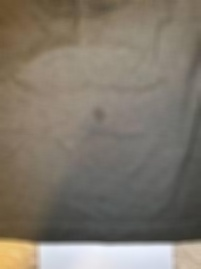oil: (84, 102, 111, 136)
